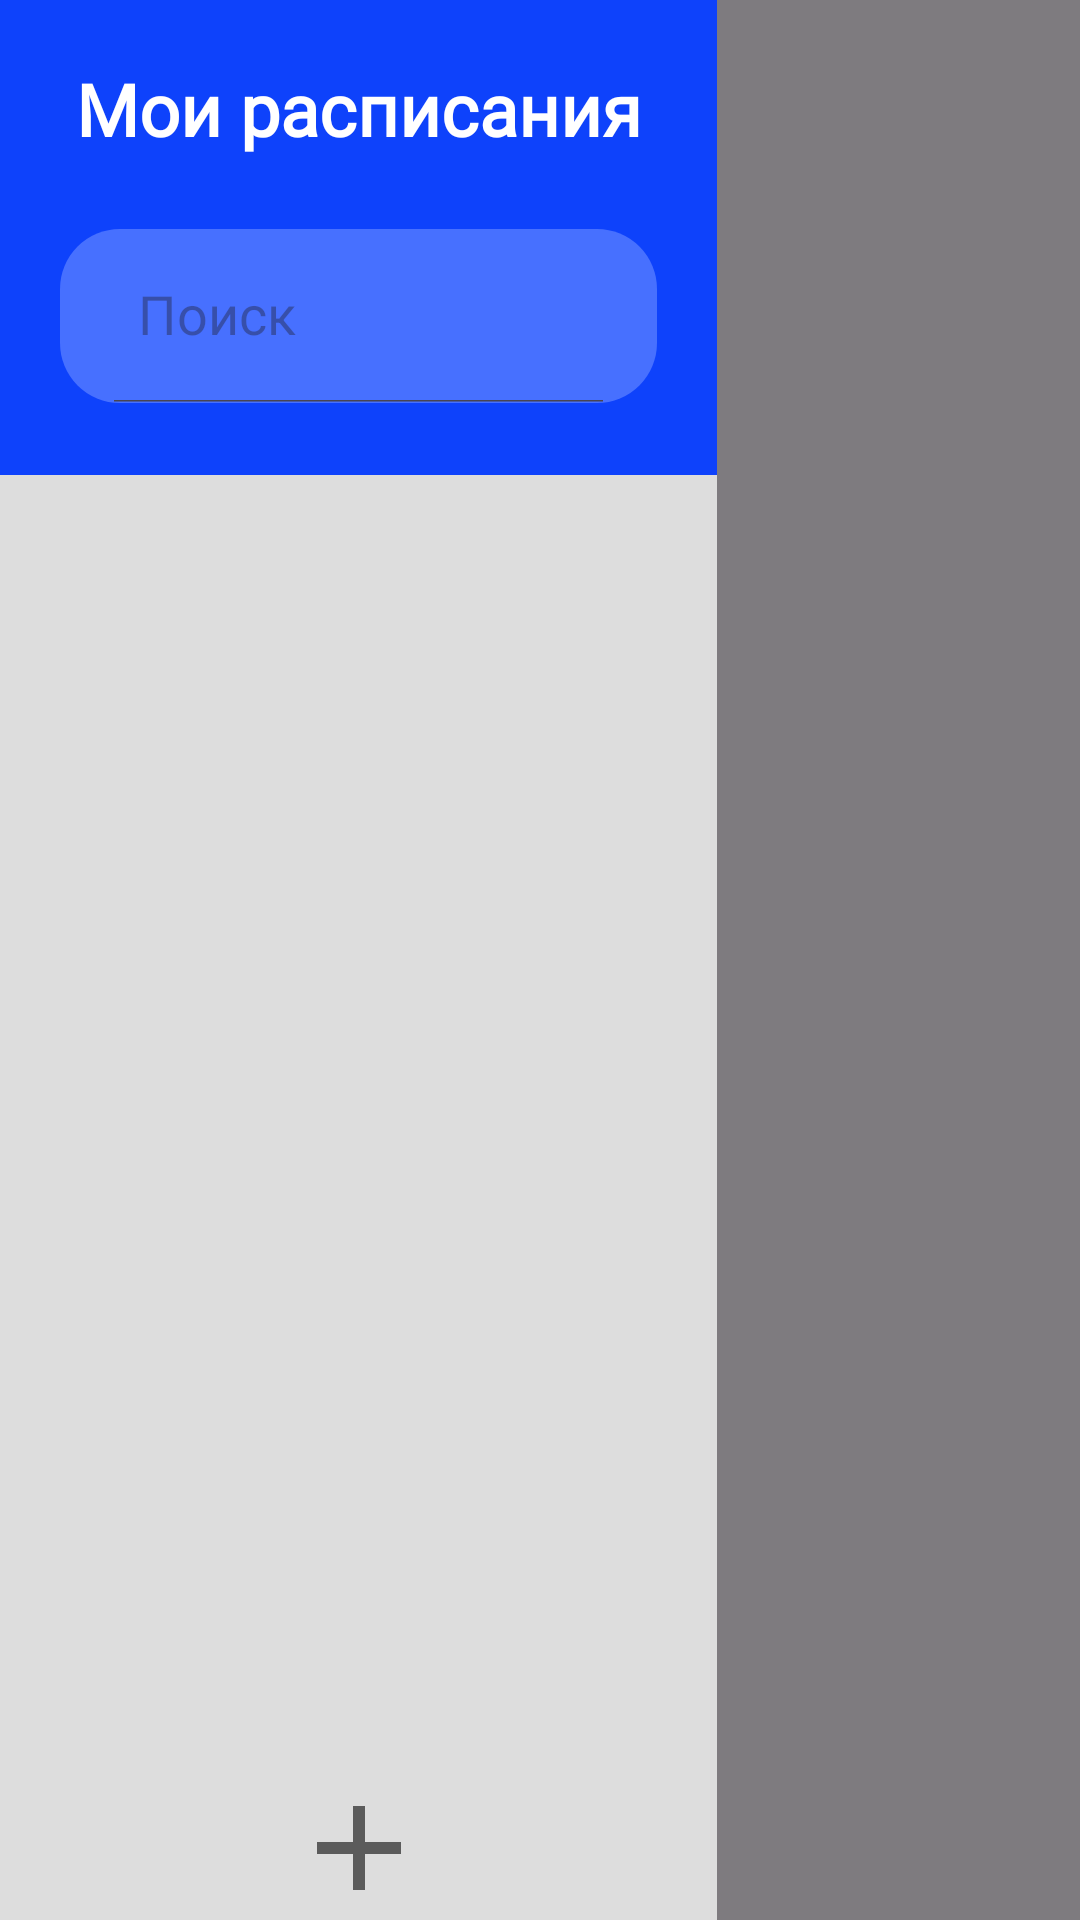

Where icons sit on this 1080 × 1920 app screen, as rect(x1, y1, x2, y2):
Adding Schedules: rect(317, 1806, 401, 1890)
